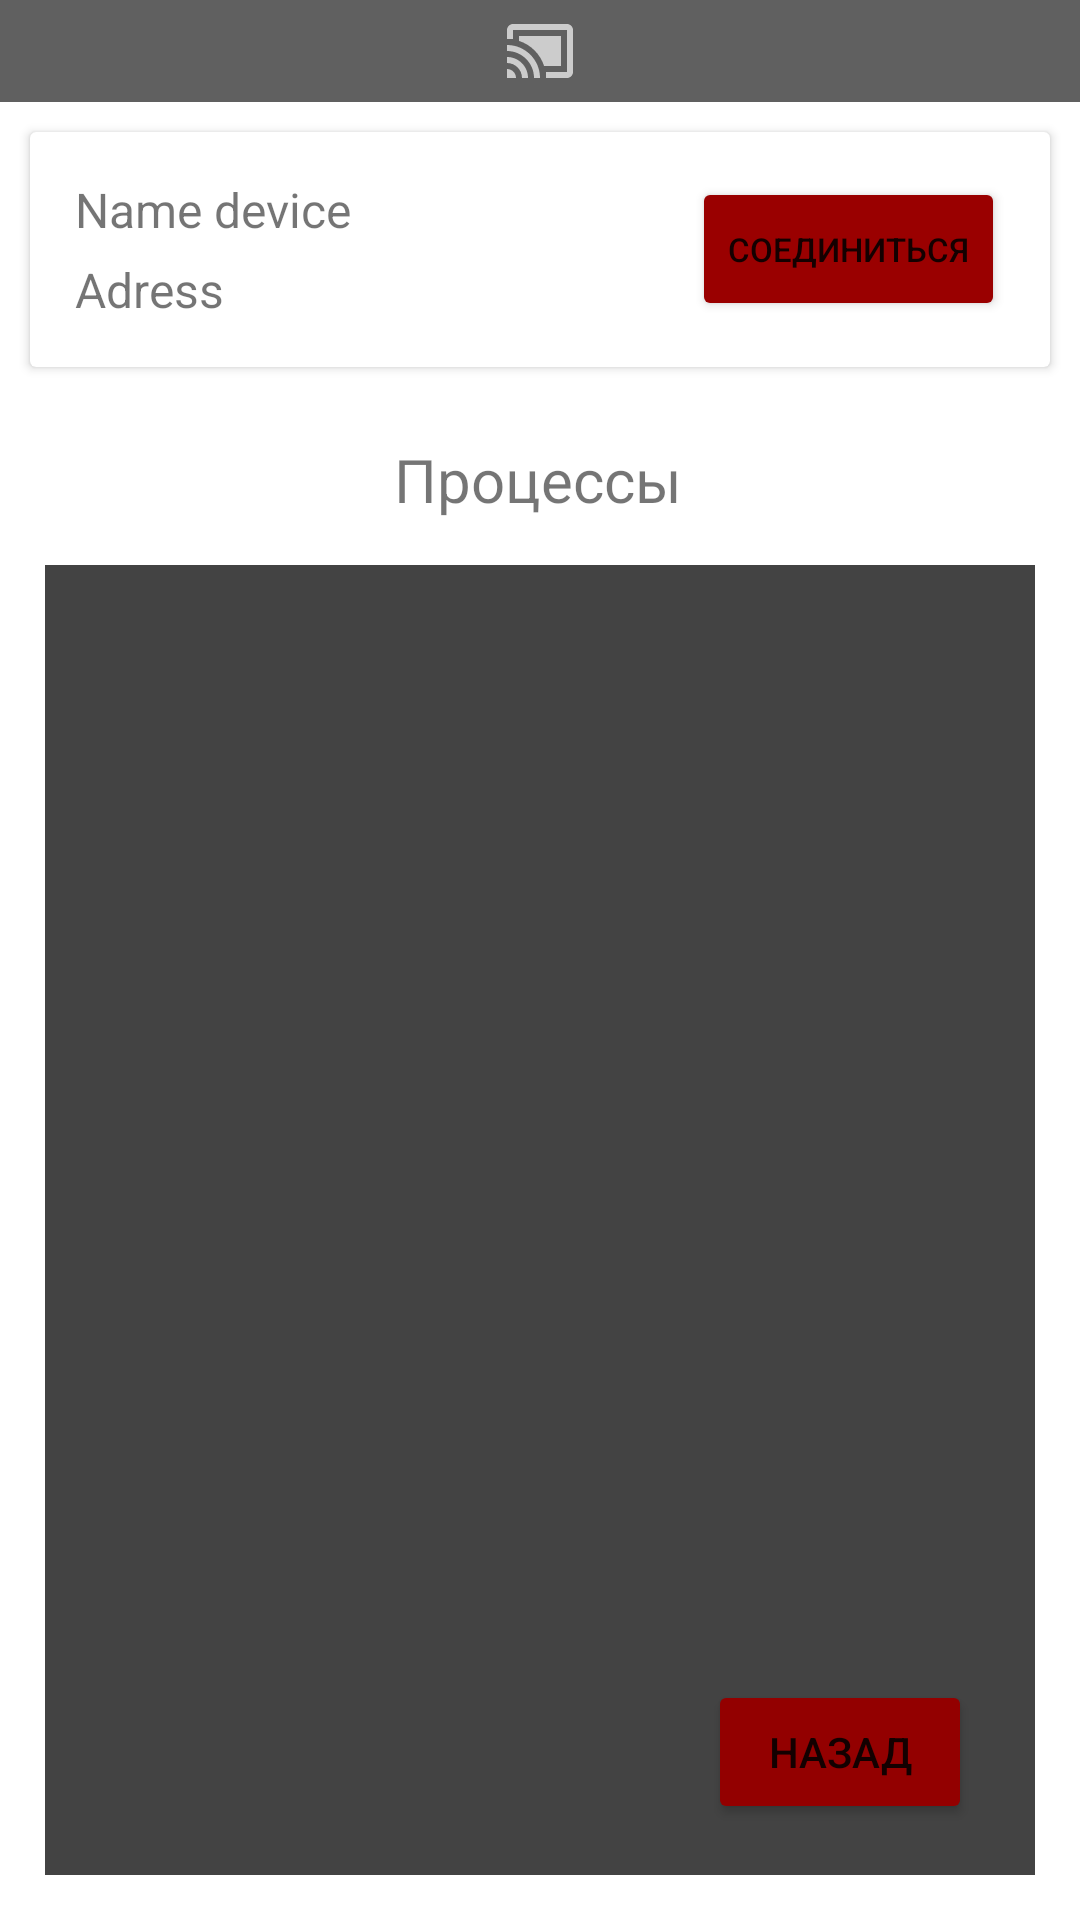

Icons on this 1080w x 1920h Android screen, each with the point to tap as (x,y):
cast connected: (540,51)
